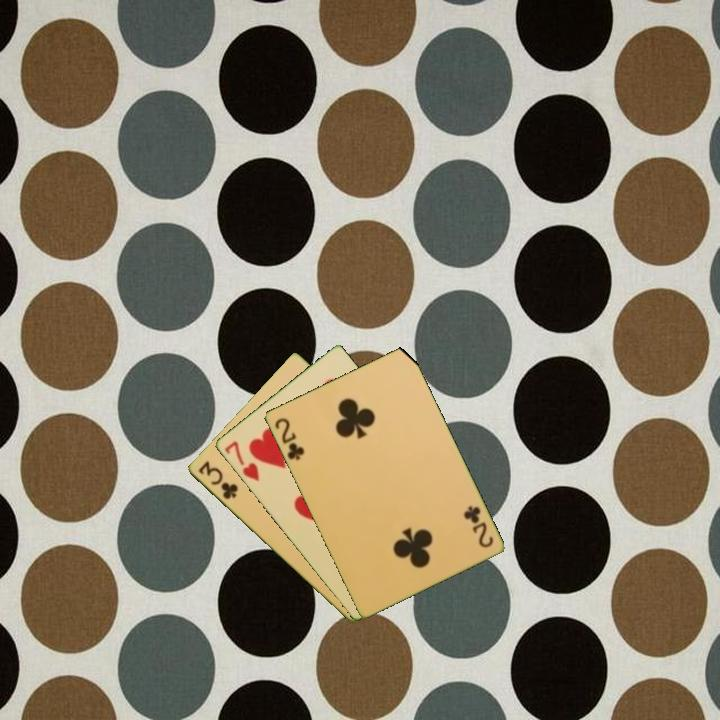2c: (271, 414, 307, 463), (460, 502, 496, 550)
3c: (194, 457, 241, 502)
7h: (220, 437, 262, 484)
